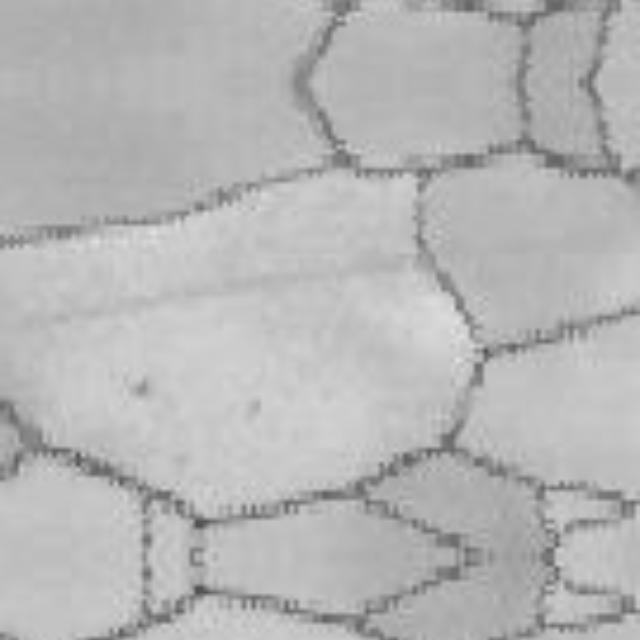good_void: (128, 376, 151, 405)
